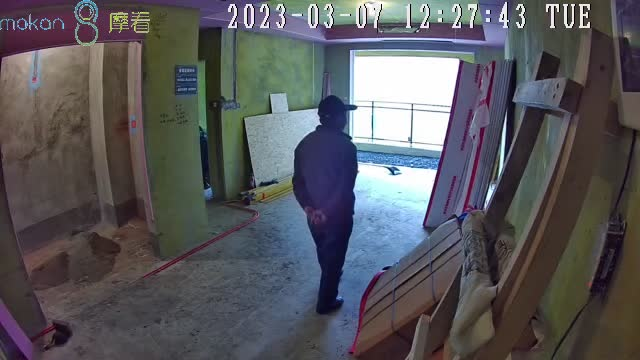people: (294, 96, 359, 313)
window: (350, 52, 458, 148)
